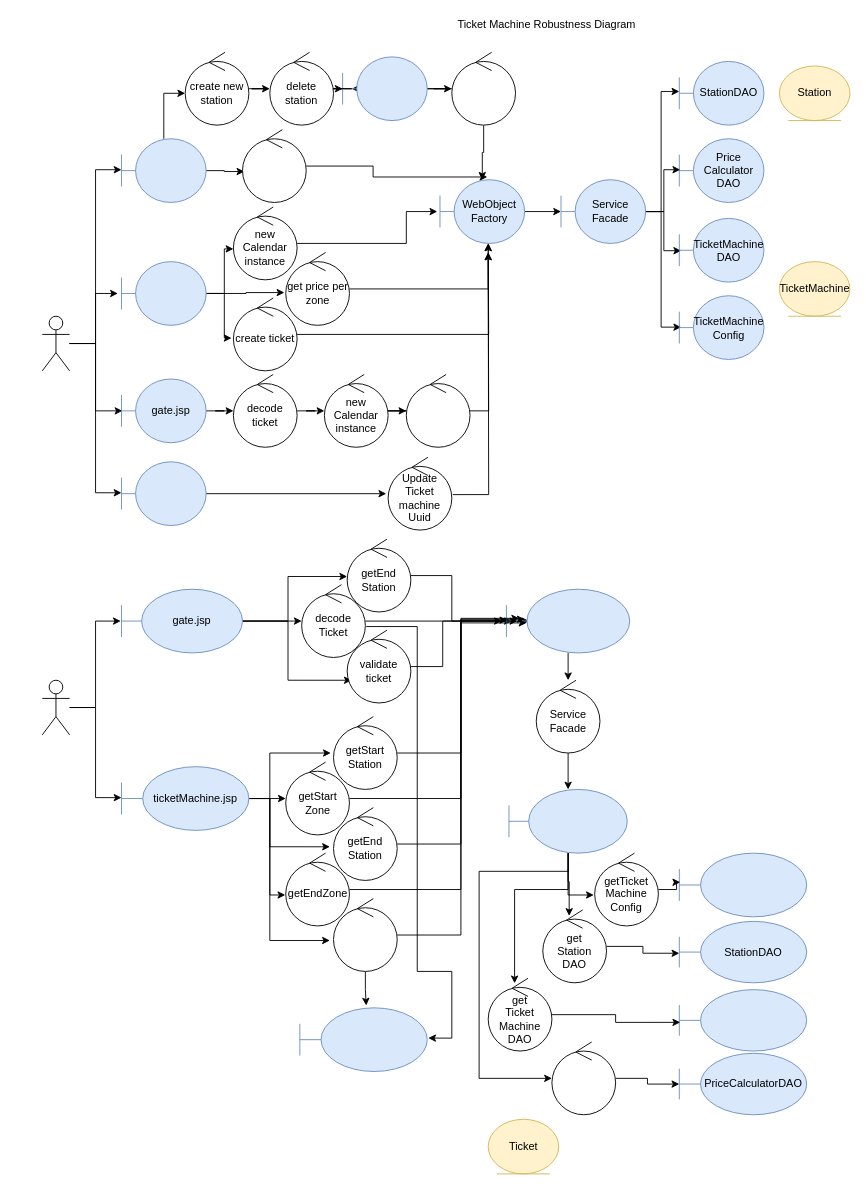
Image size: 866x1189. Some labels were removed from this diagram. Each missing label, with the centre of its shape:
change Config.jsp: the point at 163,493
check if valid ticket: the point at 437,410
clientObjectFactory: the point at 568,620
delete all stations: the point at 274,165
Encode Ticket: the point at 365,934
get Price Calculator DAO: the point at 583,1078
modify station: the point at 483,88
Station Manager: the point at 55,343
station.jsp: the point at 384,88
stationList.jsp: the point at 163,170
StationService RestClientImpl: the point at 567,821
ticket Machine.jsp: the point at 163,293
ticketEncoderImpl: the point at 363,1039
TicketMachineConfig: the point at 742,884
TicketMachineDAO: the point at 742,1020
User: the point at 55,707
